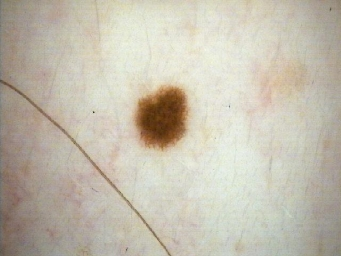melanoma: (136, 86, 189, 150)
